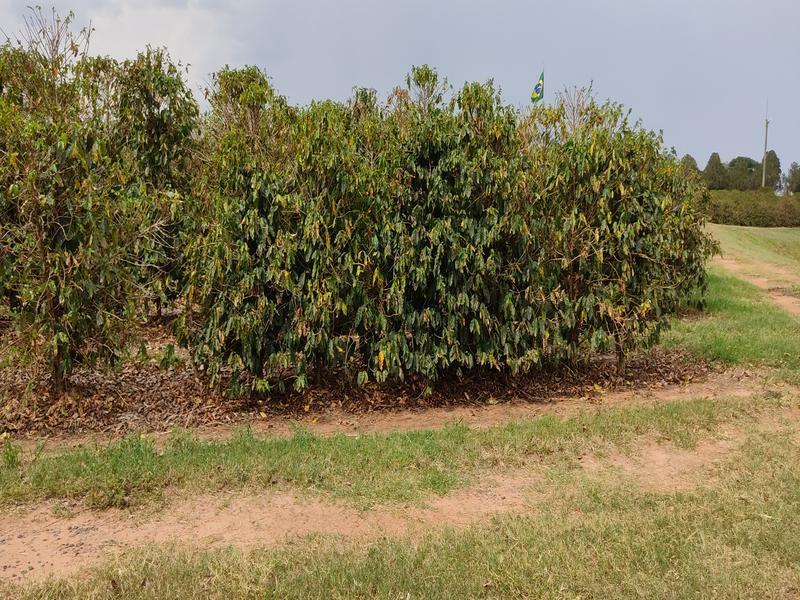coffee: (1, 1, 156, 411), (189, 78, 299, 403), (522, 108, 632, 385), (410, 92, 511, 389), (278, 116, 362, 401), (354, 92, 422, 384)
